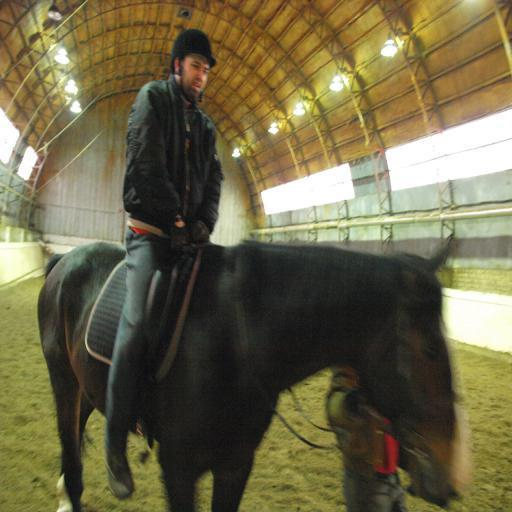horse: (35, 230, 474, 512)
